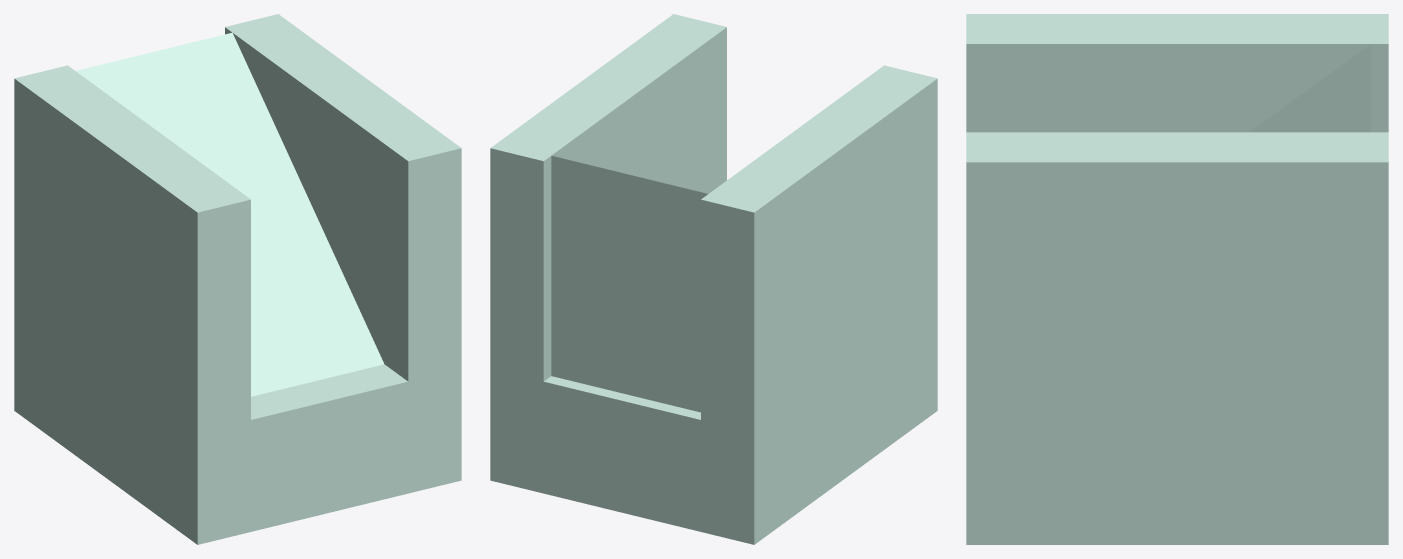
The picture shows the model from 3 angles, left to right: view 1: azimuth 30°, elevation 25°; view 2: azimuth 150°, elevation 25°; view 3: azimuth 270°, elevation 25°; orthographic projection. The views are drawn at different scales.
Parts seen in each view (by area): view 1: Renderer Node; view 2: Renderer Node; view 3: Renderer Node.
Boxes of the visible parts, <box> form: Renderer Node: <box>14,14,461,544</box>; Renderer Node: <box>490,14,937,544</box>; Renderer Node: <box>966,14,1388,544</box>.
Bounding box in the file's own units: 0.6237 × 0.75 × 0.75.
